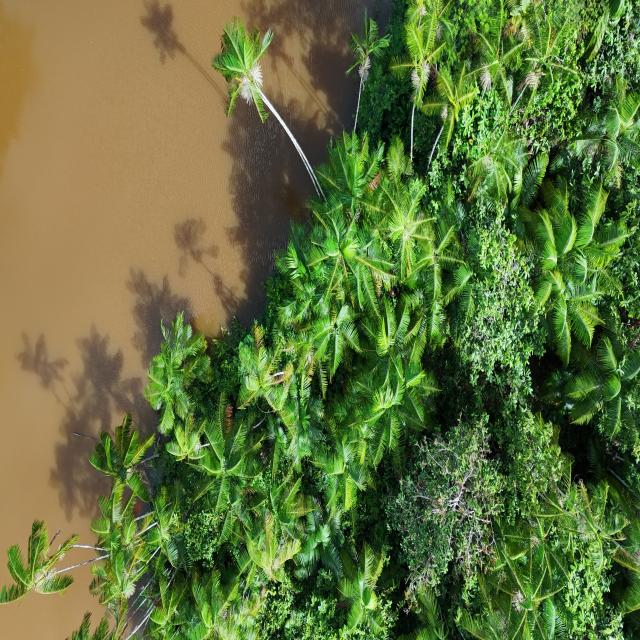vegetation: (2, 1, 638, 638)
